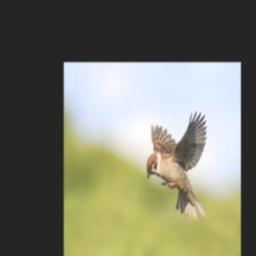Sparrow: (146, 111, 206, 222)
